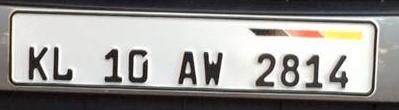0: (126, 47, 152, 83)
1: (305, 53, 326, 90), (103, 48, 124, 83)
2: (255, 53, 277, 87)
4: (327, 54, 352, 90)
8: (280, 52, 302, 87)
A: (177, 51, 201, 84)
K: (25, 45, 50, 82)
L: (51, 43, 75, 82)
W: (201, 49, 224, 87)
